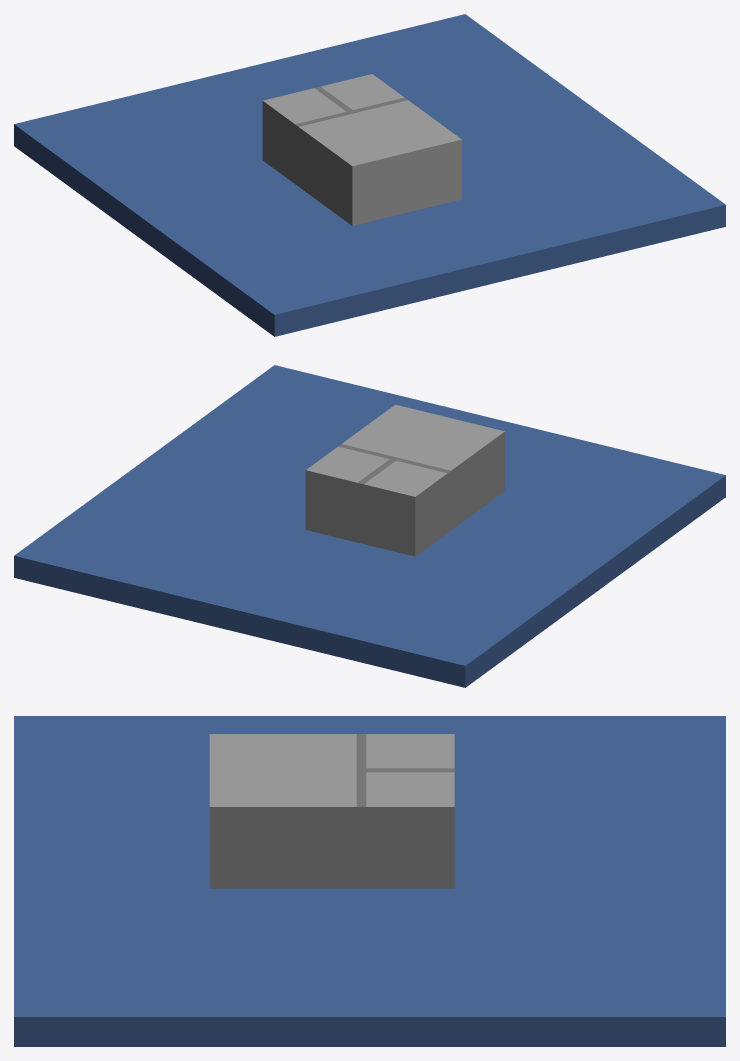
Rendered from SO_Mousepad_02.fbx.
3 views of the same model, one above another, from view 1: azimuth 30°, elevation 25°; view 2: azimuth 150°, elevation 25°; view 3: azimuth 270°, elevation 25° (orthographic). The views are drawn at different scales.
Parts seen in each view (by area): view 1: SO_Mousepad_02; view 2: SO_Mousepad_02; view 3: SO_Mousepad_02.
Part boxes in pixels (x1,y1,x2,y2): SO_Mousepad_02: (14,14,725,336); SO_Mousepad_02: (14,365,725,687); SO_Mousepad_02: (14,716,725,1046).
Bounding box in the file's own units: 0.5978 × 0.1035 × 0.5978.
